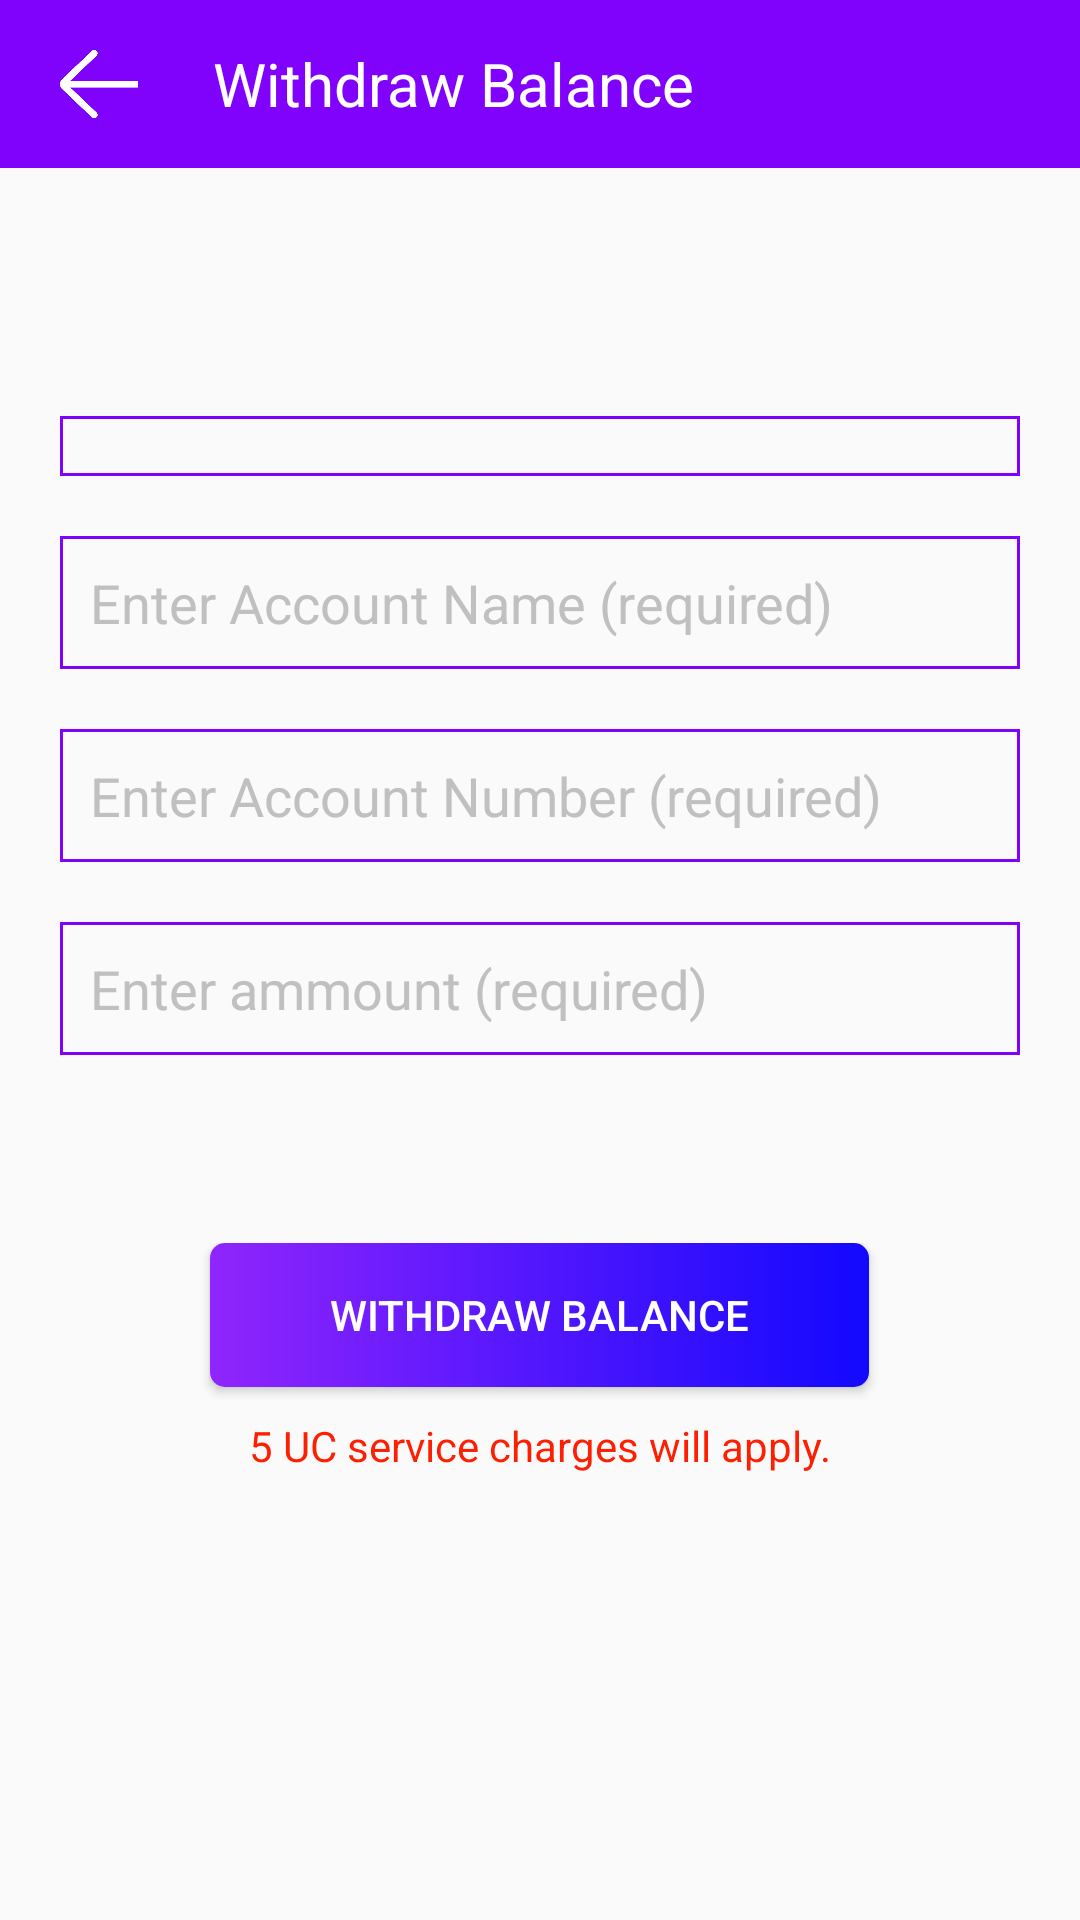

Icon bounding boxes for this 1080w x 1920h phone screenshot, format (x1, y1, x2, y2):
back: (60, 50, 138, 118)
